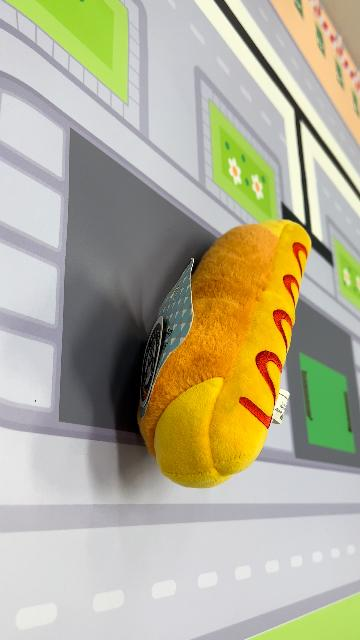hotdog: (136, 218, 312, 490)
